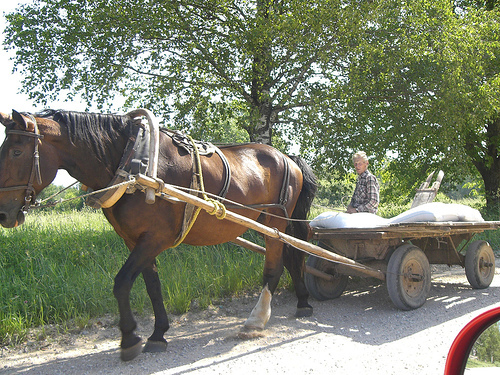horse: (1, 106, 318, 362)
